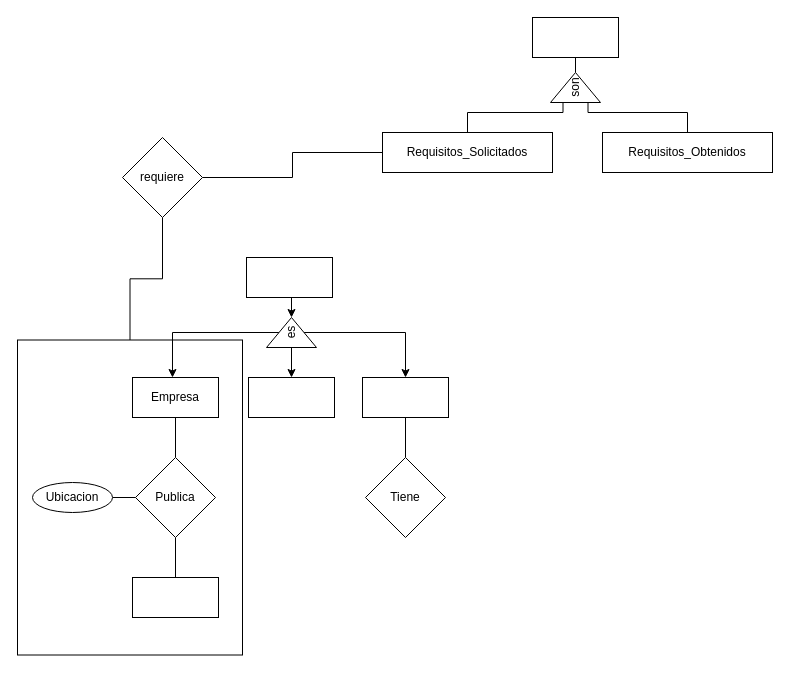
This 790x673 diagram has some shape labels left out. The box of each missing label's shape, as (x1, y1, x2, y2) in pixels:
Administrador: (248, 376, 334, 418)
Emprendedor: (362, 376, 448, 418)
Material: (132, 576, 218, 618)
Requisitos: (532, 16, 618, 58)
Usuario: (246, 256, 332, 298)
